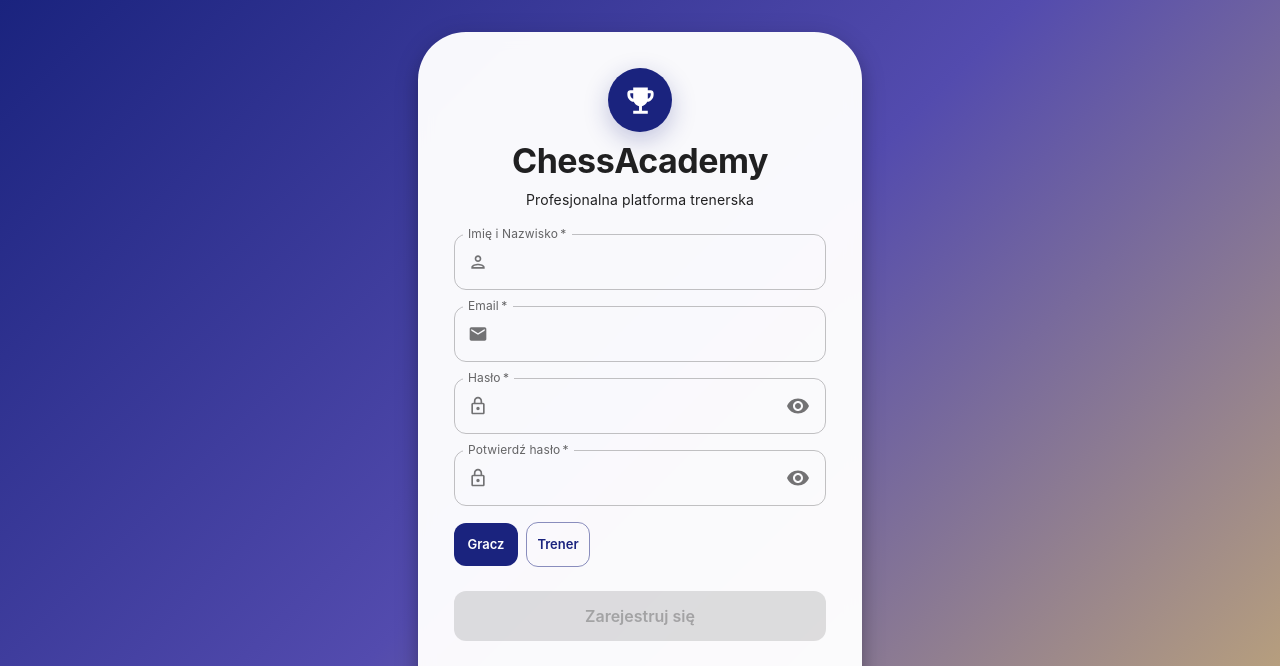
Test case: RegisterView › shows error for mismatched passwords
Type "Password123!" into the password field labelled "Hasło *".
click(634, 406); type("Password123!")  # box [496, 378, 773, 434]
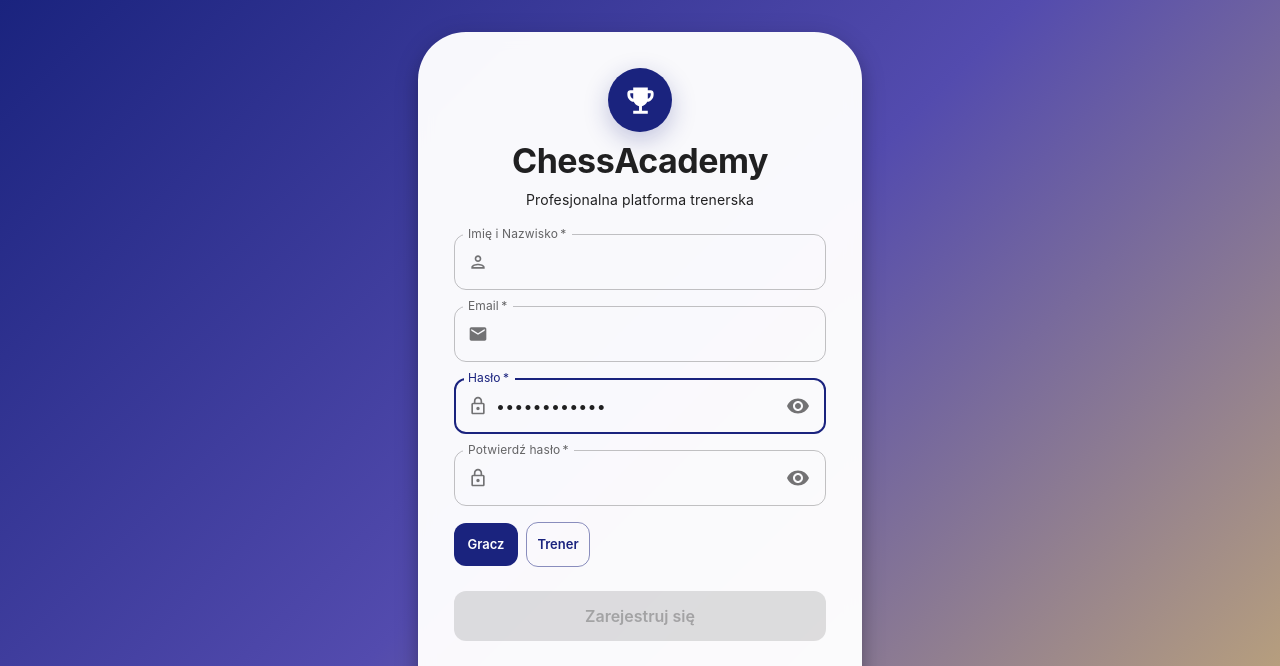
Type "Different!" into the password field labelled "Potwierdź hasło *".
click(634, 478); type("Different!")  # box [496, 450, 773, 506]
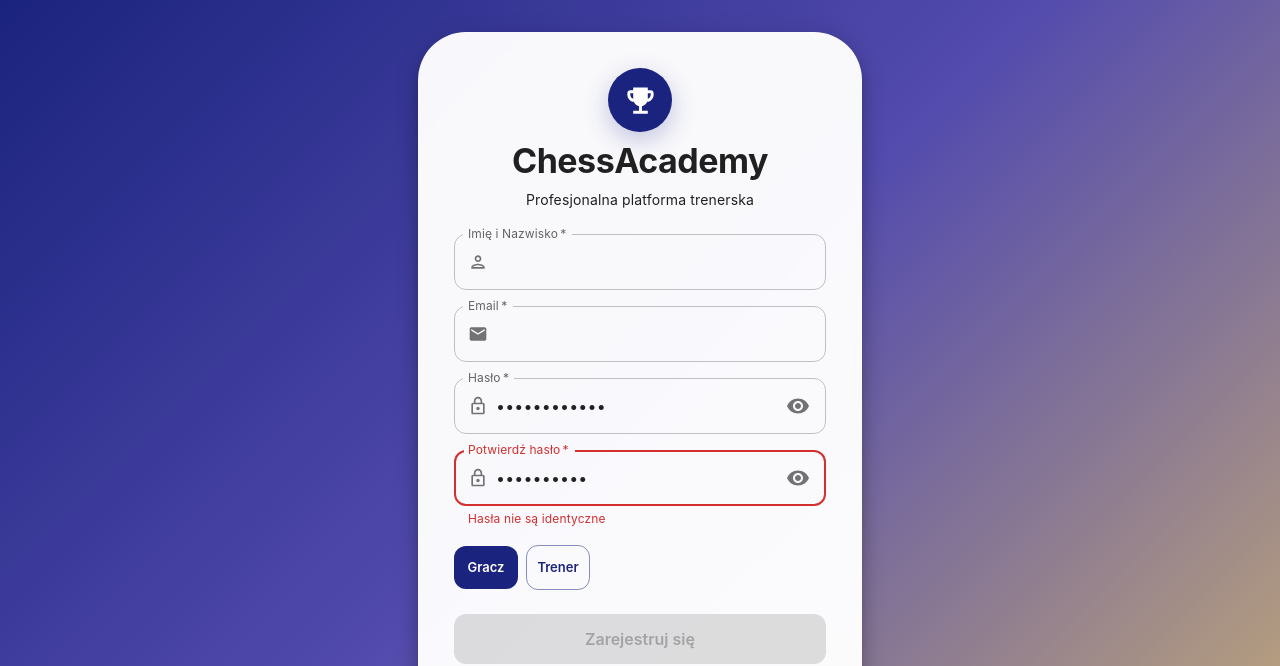
expect the text "Hasła nie są identyczne" is shown: met, box [468, 511, 606, 526]
